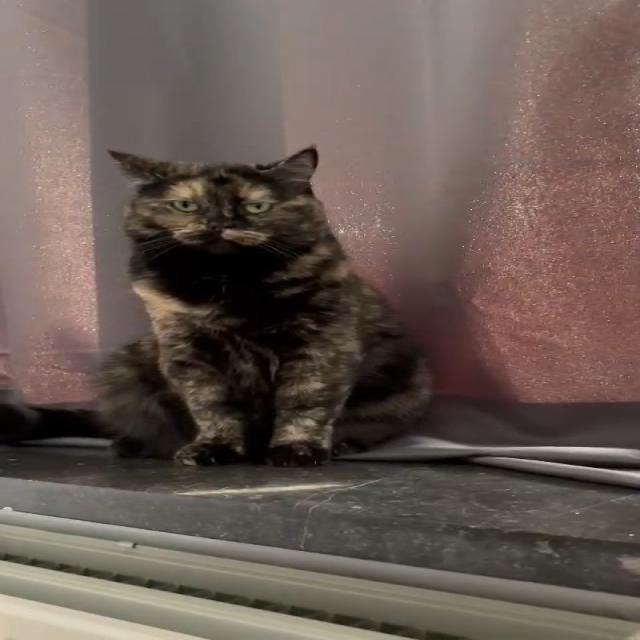authorized: (89, 143, 435, 468)
